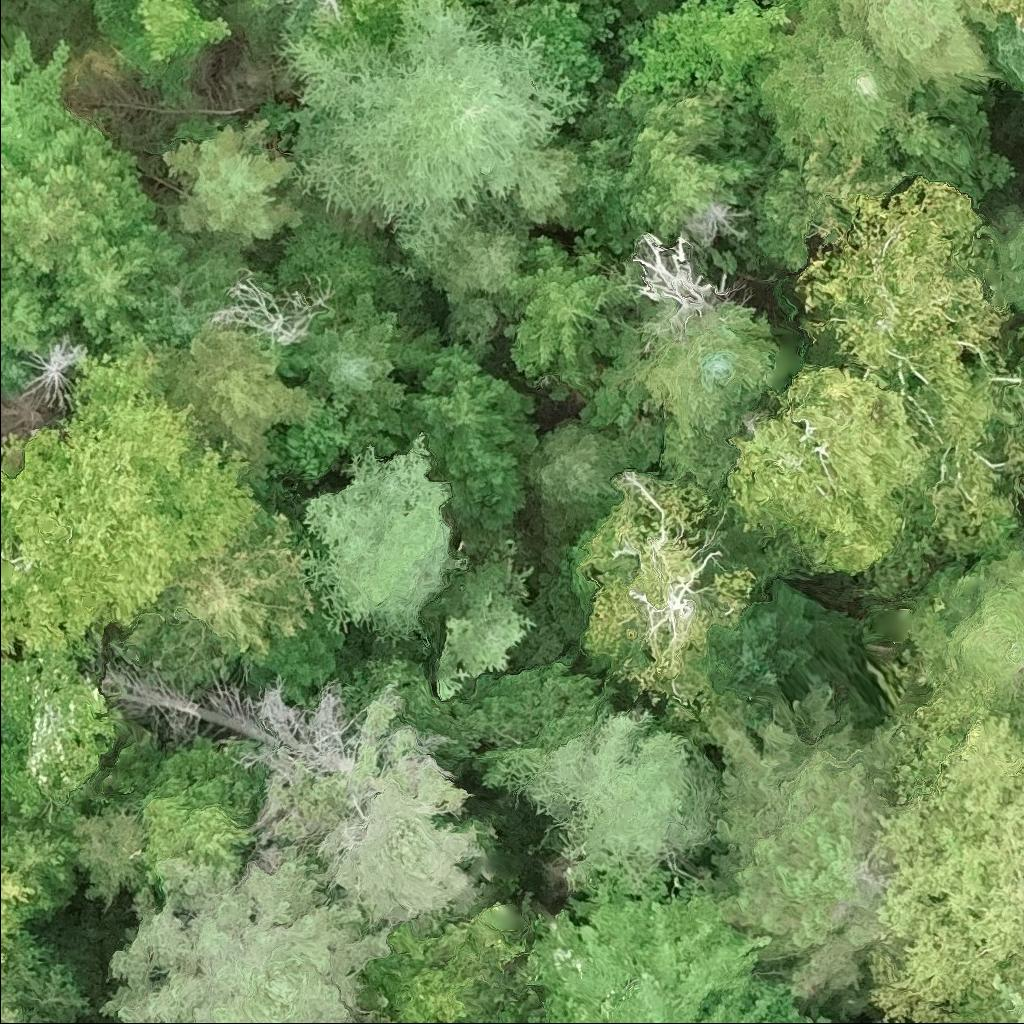crown: (791, 177, 1023, 565), (285, 0, 570, 260), (0, 366, 250, 654), (706, 682, 902, 1016), (97, 843, 402, 1023), (575, 475, 762, 762), (869, 676, 1023, 1023), (264, 701, 486, 930), (526, 870, 838, 1023), (475, 706, 719, 897), (729, 362, 936, 576), (286, 440, 456, 641), (129, 507, 308, 687), (745, 0, 919, 164), (605, 88, 760, 252), (712, 580, 878, 729), (604, 0, 787, 127), (607, 304, 773, 435), (0, 128, 149, 273), (0, 626, 106, 821), (743, 140, 900, 267), (498, 235, 635, 379), (170, 326, 311, 454), (292, 289, 418, 431), (445, 657, 619, 758), (165, 118, 300, 239), (137, 754, 250, 895), (50, 221, 180, 340), (836, 0, 990, 86), (512, 0, 616, 122), (68, 0, 234, 66), (632, 233, 734, 329), (428, 213, 533, 303), (0, 928, 96, 1023), (517, 148, 593, 227), (0, 855, 40, 963), (312, 0, 404, 42), (26, 339, 78, 406), (997, 233, 1023, 310), (989, 972, 1023, 1023), (990, 0, 1023, 29), (0, 362, 31, 392), (249, 0, 296, 9), (632, 0, 655, 14), (610, 0, 624, 6)
